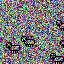sheep: (21, 35, 36, 48), (6, 42, 21, 53), (50, 53, 64, 64), (55, 19, 64, 31)
